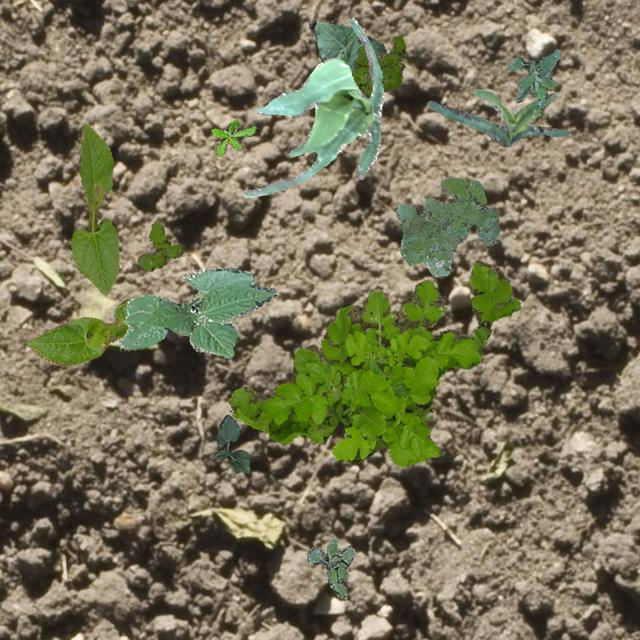crop: (242, 18, 382, 196), (117, 266, 276, 356), (426, 88, 568, 146), (70, 123, 118, 294), (27, 298, 129, 364), (308, 20, 384, 70), (212, 413, 250, 472), (170, 327, 190, 335)
weed: (228, 258, 520, 466), (394, 176, 498, 276), (350, 34, 404, 98), (506, 48, 558, 108), (306, 536, 354, 598), (136, 218, 182, 270), (210, 118, 254, 156)
